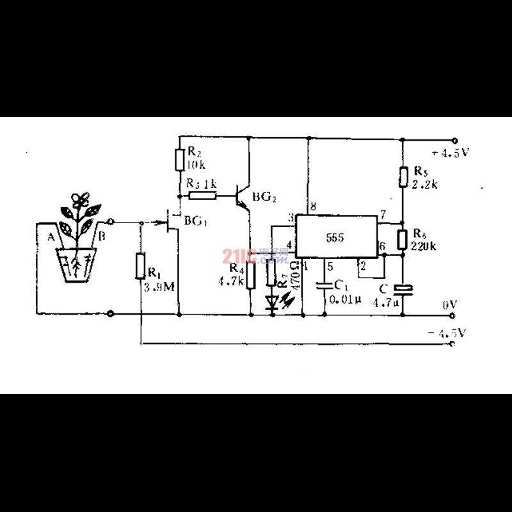capacitor: (312, 278, 334, 293)
firstresistance: (243, 257, 259, 291), (263, 255, 278, 288), (132, 250, 147, 282), (395, 162, 410, 191), (186, 189, 218, 202), (394, 227, 410, 252), (172, 145, 186, 173)
npn: (229, 177, 253, 216)
